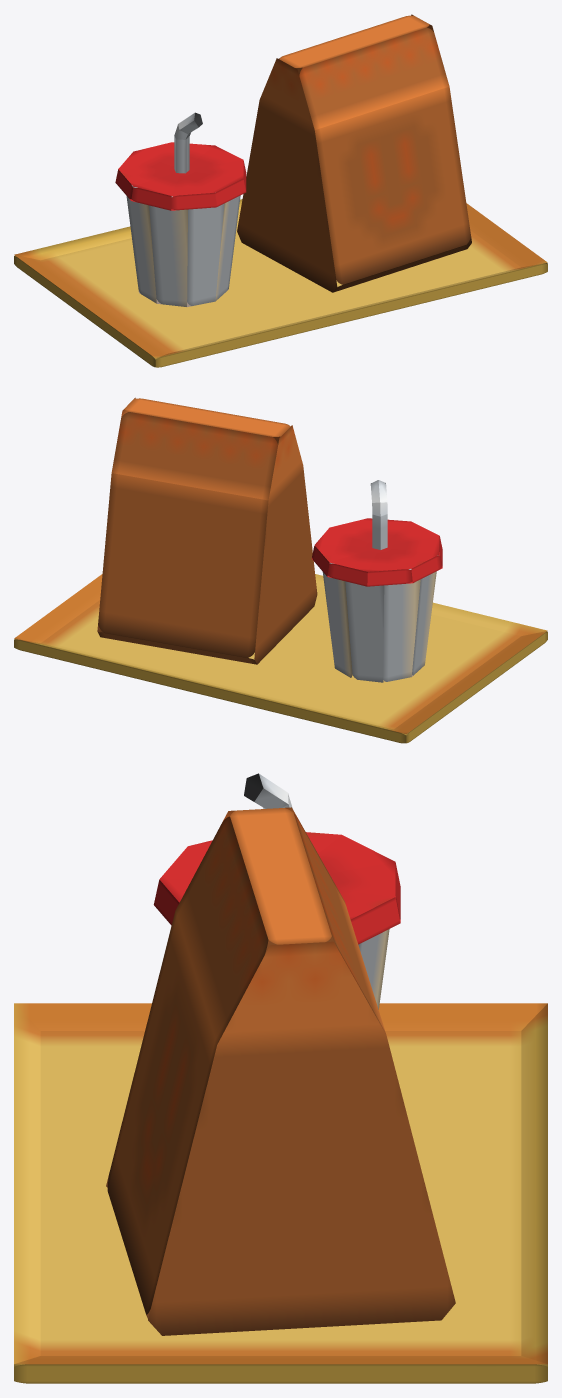
File: Tray.fbx
3 views of the same model, one above another, from view 1: azimuth 30°, elevation 25°; view 2: azimuth 150°, elevation 25°; view 3: azimuth 270°, elevation 25° (orthographic). The views are drawn at different scales.
Visible parts, largest first — view 1: cuboid_1, cuboid, cylinder_1, cylinder, cylinder_2; view 2: cuboid_1, cuboid, cylinder_1, cylinder, cylinder_2; view 3: cuboid_1, cuboid, cylinder, cylinder_1, cylinder_2.
Part boxes in pixels (x1=…): cuboid_1: x1=237, y1=14, x2=471, y2=292; cuboid: x1=14, y1=199, x2=547, y2=367; cylinder_1: x1=126, y1=185, x2=240, y2=306; cylinder: x1=115, y1=142, x2=246, y2=210; cylinder_2: x1=174, y1=112, x2=202, y2=173; cuboid_1: x1=97, y1=397, x2=317, y2=664; cuboid: x1=14, y1=574, x2=547, y2=743; cylinder_1: x1=322, y1=555, x2=438, y2=682; cylinder: x1=311, y1=518, x2=442, y2=586; cylinder_2: x1=370, y1=480, x2=387, y2=549; cuboid_1: x1=106, y1=807, x2=455, y2=1335; cuboid: x1=14, y1=1003, x2=547, y2=1383; cylinder: x1=153, y1=832, x2=400, y2=944; cylinder_1: x1=358, y1=929, x2=389, y2=1009; cylinder_2: x1=244, y1=773, x2=292, y2=808.
Bounding box in the file's own units: 133 × 67.92 × 83.33.
Materials: 1 (1 with a texture image).
